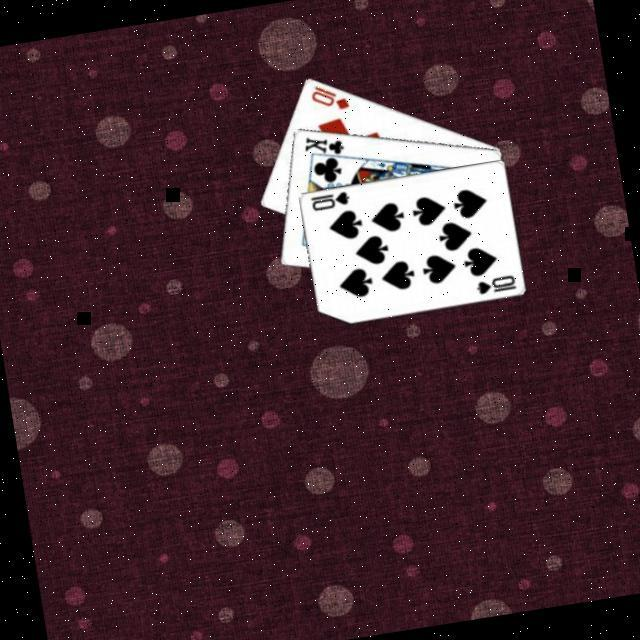10D: (307, 80, 354, 119)
10S: (473, 273, 521, 300), (308, 189, 355, 216)
KC: (301, 130, 351, 169)
